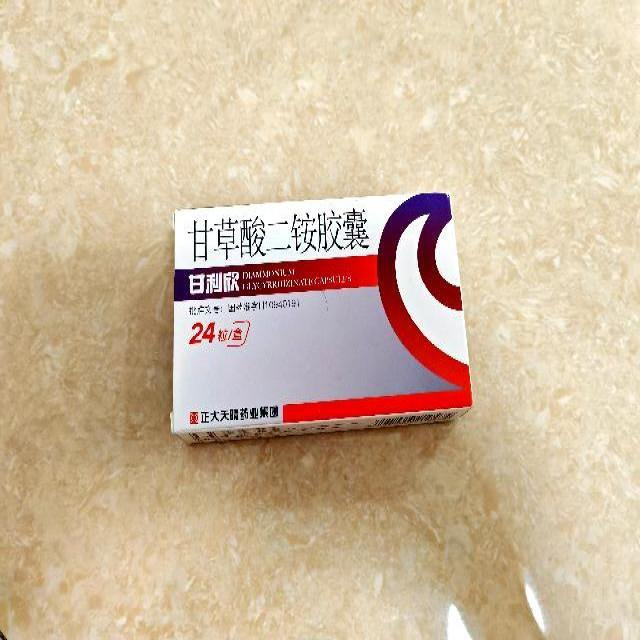box: (173, 189, 473, 448)
